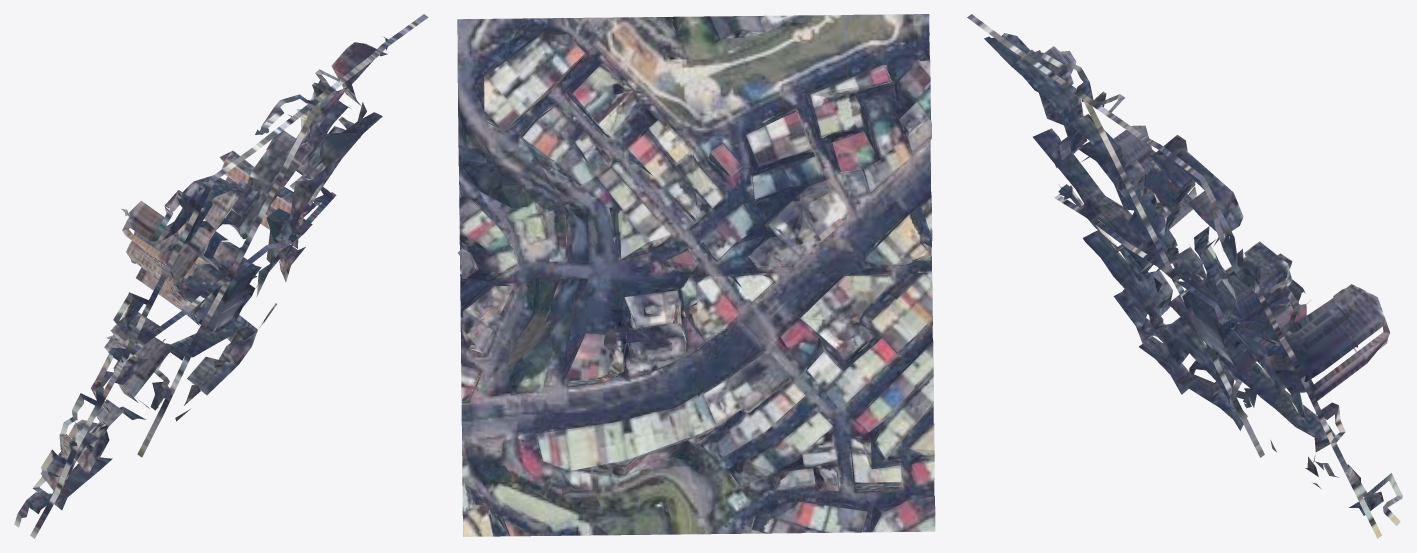
3 views of the same model, side by side, from view 1: azimuth 30°, elevation 25°; view 2: azimuth 150°, elevation 25°; view 3: azimuth 270°, elevation 25° (orthographic). The views are drawn at different scales.
Bounding box in the file's own units: 312 × 283 × 269.
Materials: 1 (1 with a texture image).
